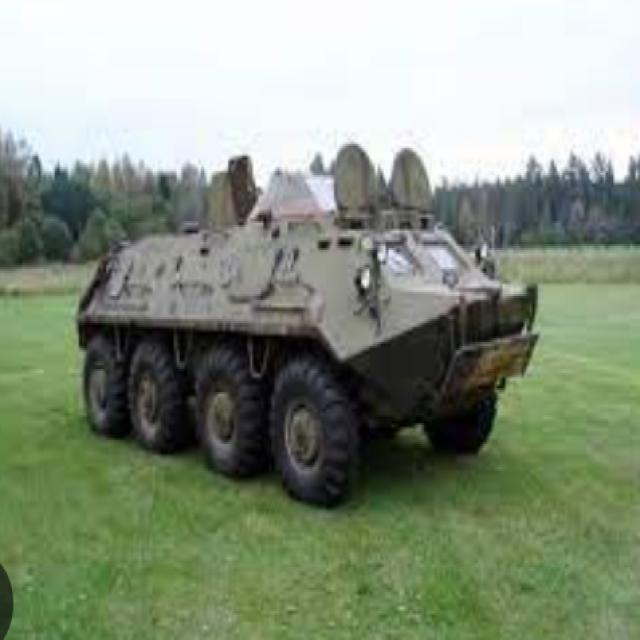MIL_APC: (64, 193, 542, 499)
